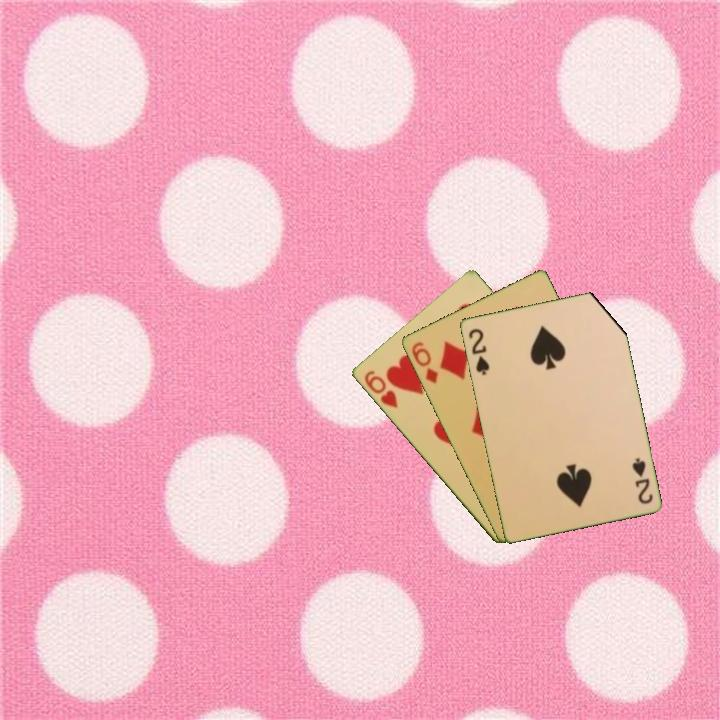2s: (465, 325, 492, 378), (628, 454, 655, 507)
6d: (408, 338, 441, 387)
6h: (360, 367, 400, 411)
